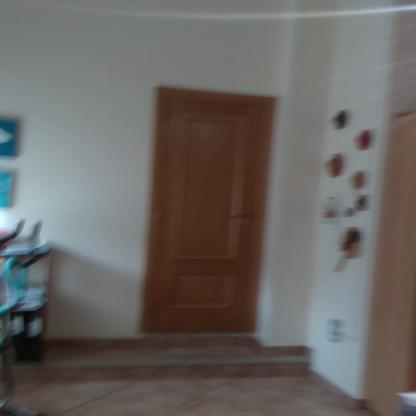door: (157, 96, 262, 337)
hinged: (153, 115, 162, 134), (155, 208, 162, 228), (152, 298, 157, 314)
lever: (228, 210, 253, 220)
